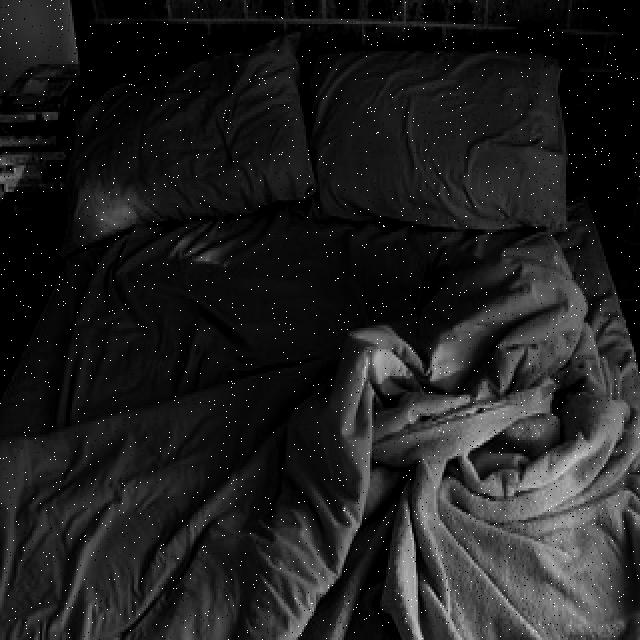bed: (7, 38, 620, 629)
